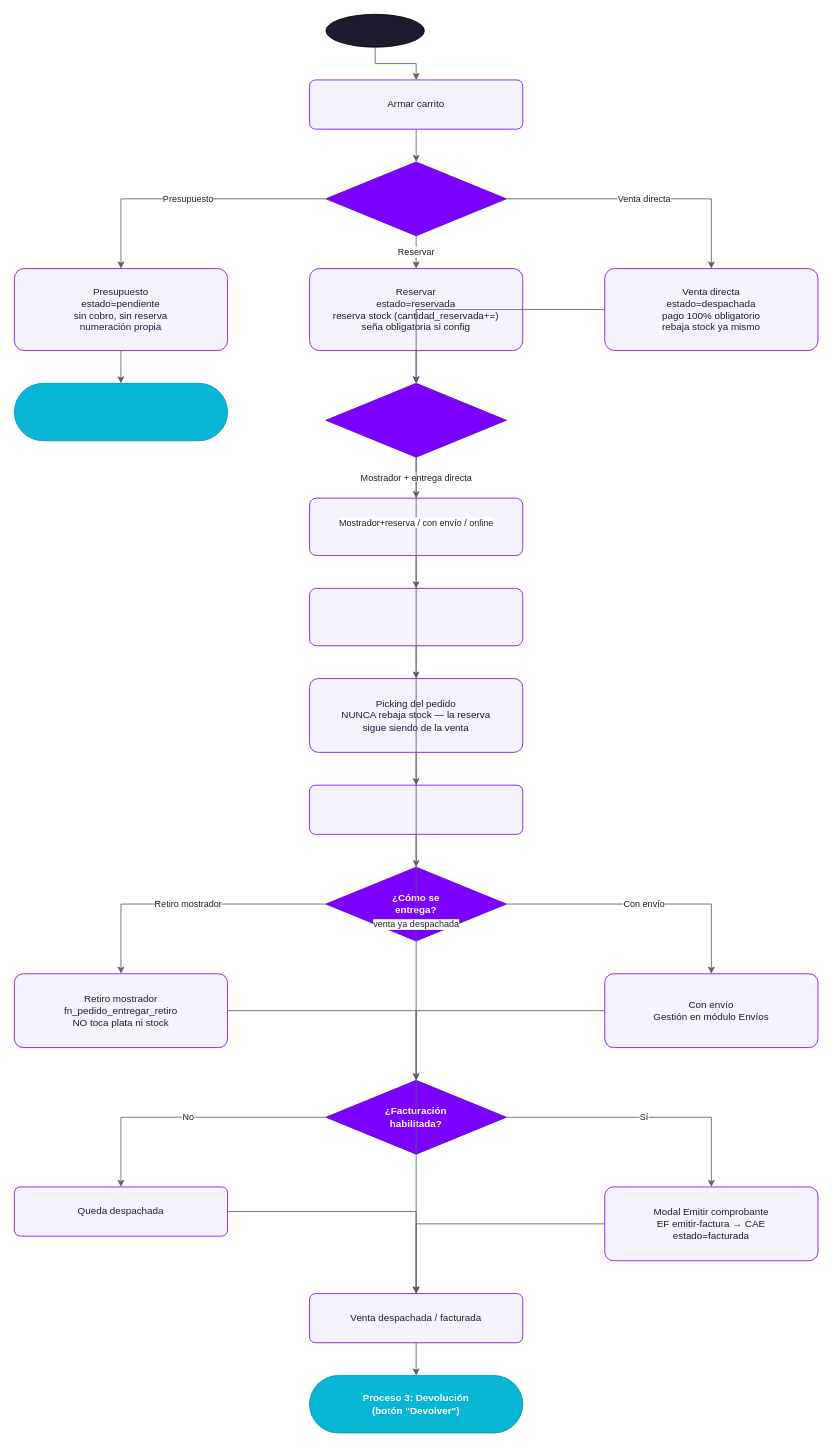
Some shapes in this 832 by 1447 pixel diagram are drawn without their labels. Here are the shapes that lost their labels. From the top down, the box of each, then its label:
(325, 14, 424, 47): Inicio
(325, 161, 506, 236): ¿Elegir modo de venta?
(14, 383, 228, 441): Fin (presupuesto, sin picking/entrega)
(325, 383, 506, 457): ¿Genera Pedido de preparación?
(309, 497, 523, 556): No genera pedido (mostrador + entrega directa)
(309, 588, 523, 646): Nace Pedido venta_origen_id, estado=confirmado
(309, 784, 523, 834): Pedido → listo_para_entrega
